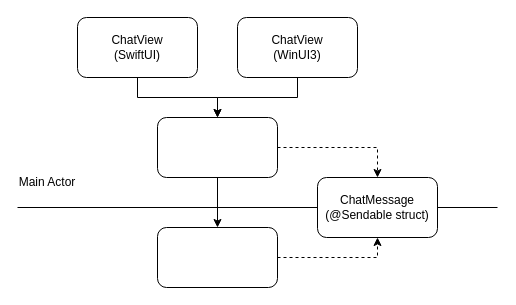
Some shapes in this 516 by 305 pixel diagram are drawn without their labels. The shapes that lost their labels are listed below. From the top down, each one's centre as x and y in pixels, then its label:
point 217,147: ChatViewModel (@Observable class)
point 217,257: ModelService (actor)
